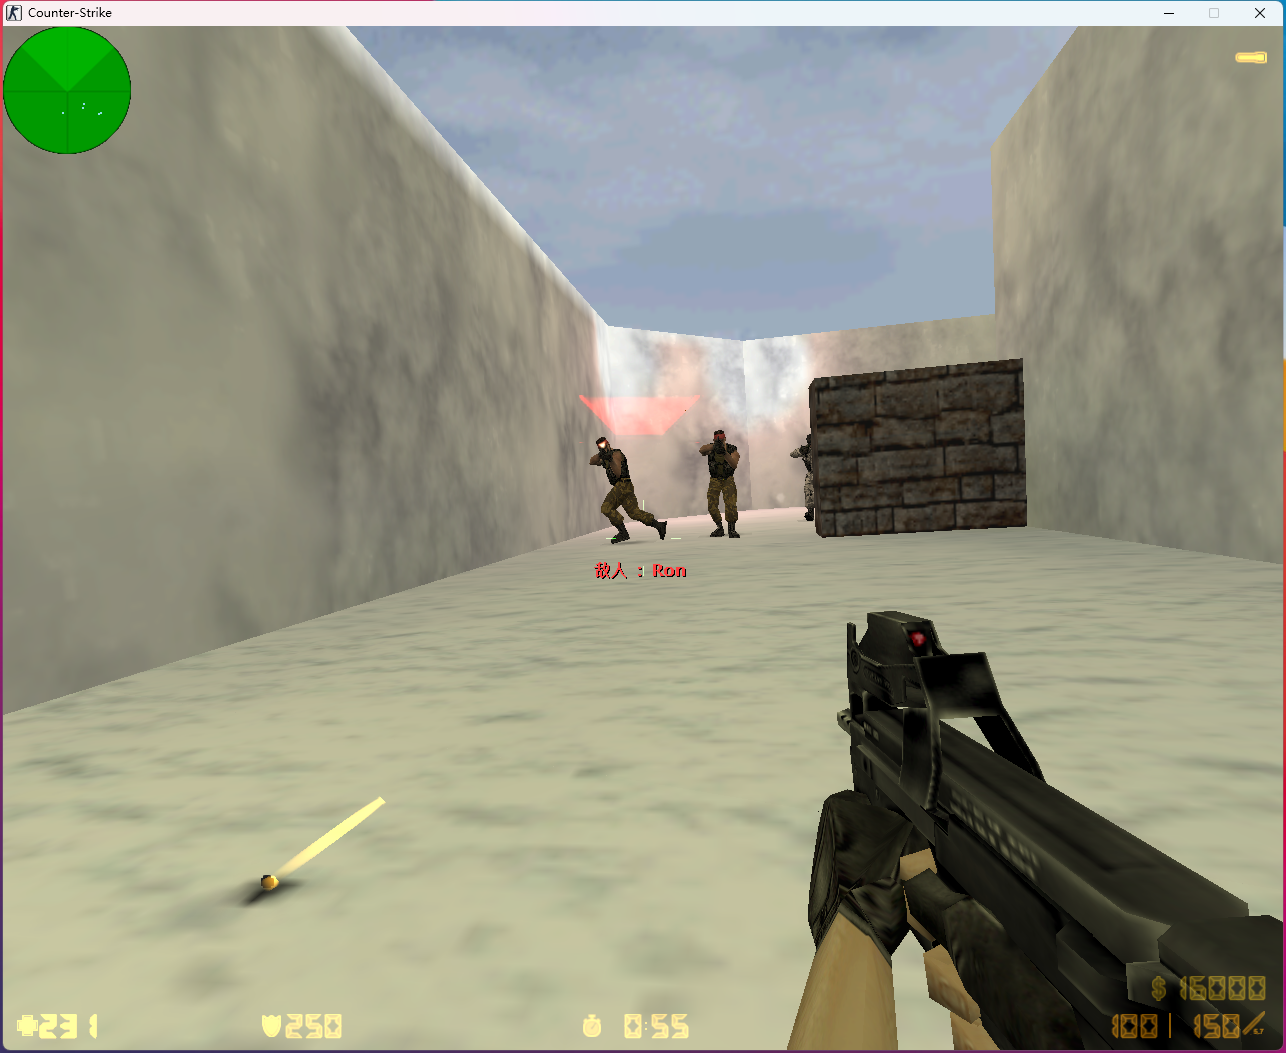T: (590, 436, 666, 547), (695, 430, 742, 538), (794, 431, 819, 521)
